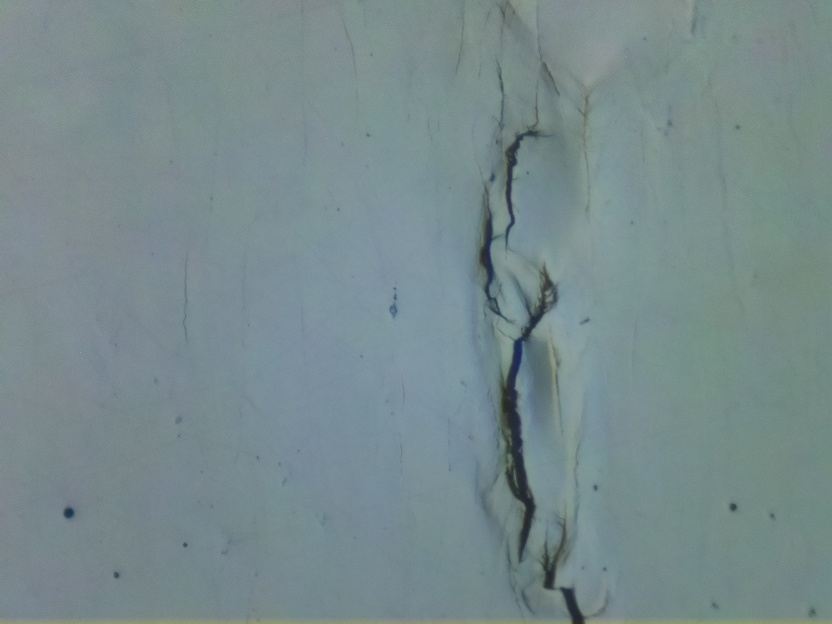crack: (503, 271, 556, 564), (503, 121, 560, 253), (454, 175, 500, 321), (539, 525, 590, 624)
